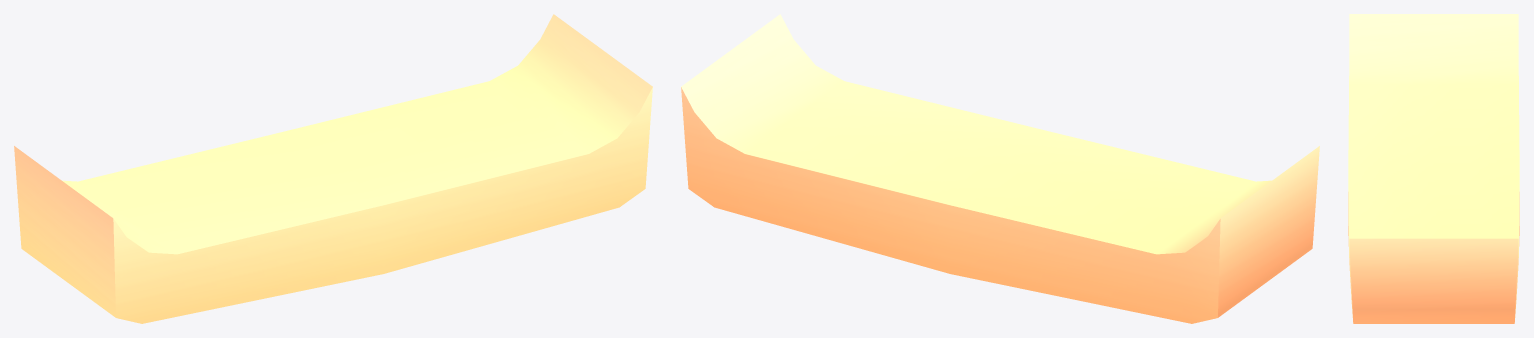
The model's file is wood_guard_077_004.glb.
The picture shows the model from 3 angles, left to right: view 1: azimuth 30°, elevation 25°; view 2: azimuth 150°, elevation 25°; view 3: azimuth 270°, elevation 25°; orthographic projection. The views are drawn at different scales.
Visible parts, largest first — view 1: wood_guard_077.004; view 2: wood_guard_077.004; view 3: wood_guard_077.004.
Boxes of the visible parts, x1=… form: wood_guard_077.004: x1=14, y1=14, x2=652, y2=323; wood_guard_077.004: x1=681, y1=14, x2=1319, y2=323; wood_guard_077.004: x1=1348, y1=14, x2=1519, y2=323.
Size of the model in its own units: 6.1 by 1.31 by 1.97.
Materials: 1 (1 with a texture image).
